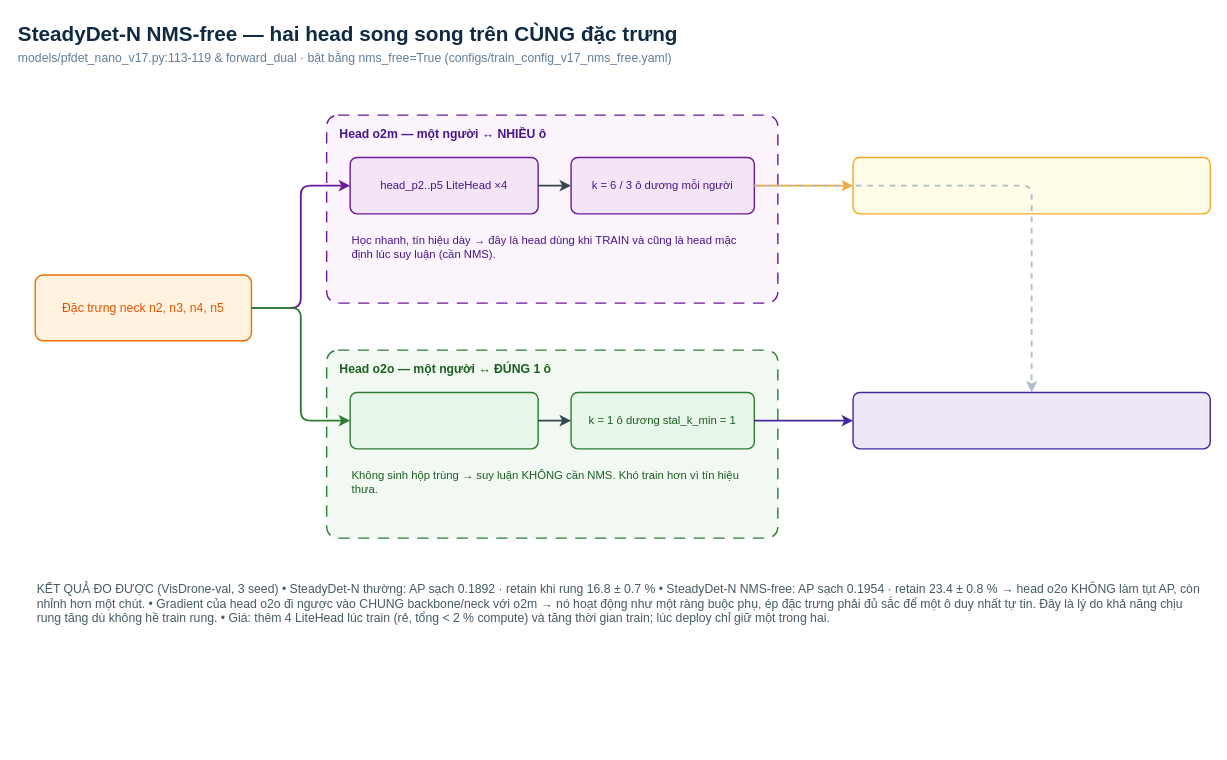
This 1227x760 diagram has some shape labels left out. The shapes that lost their labels are listed below. From the top down, each one's box as (x1, y1, x2, y2) in pixels, then its label:
(852, 156, 1211, 214): LÚC TRAIN — forward_dual(x) loss = loss_o2m + λ · loss_o2o (λ = 1.0)
(349, 391, 538, 449): head_p2..p5_o2o LiteHead ×4 (bản sao)
(852, 391, 1211, 449): LÚC EVAL nms_free=True chỉ chạy head o2o, bỏ hẳn NMS
